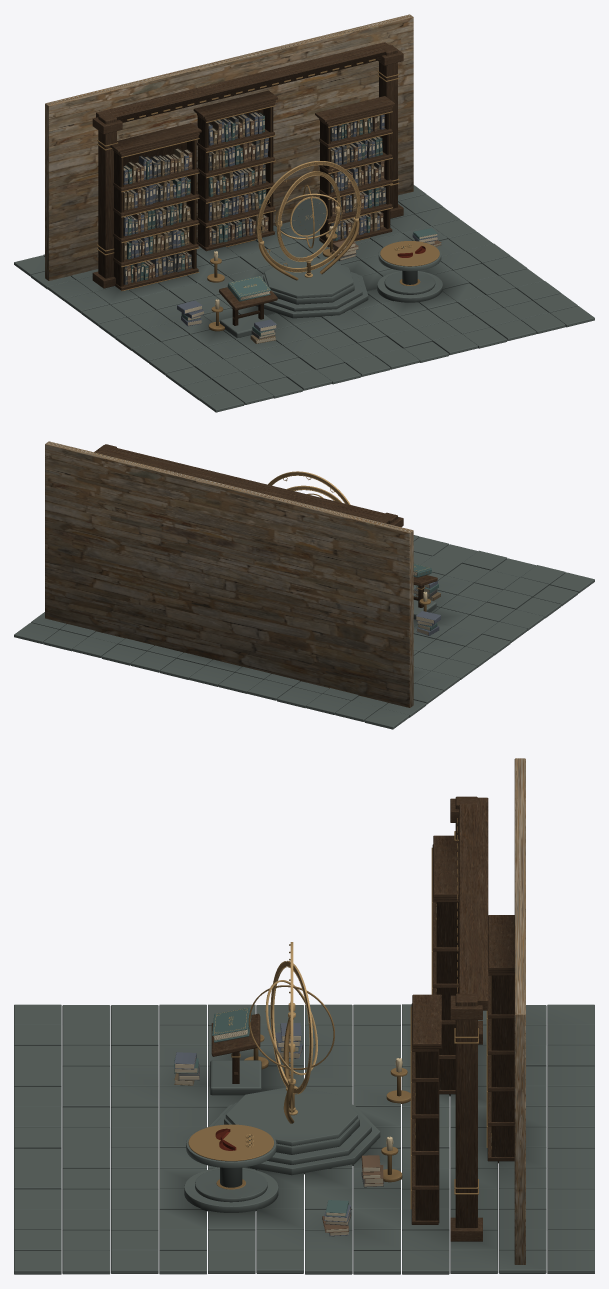
The model's file is refined-temple-ao.glb.
3 views of the same model, one above another, from view 1: azimuth 30°, elevation 25°; view 2: azimuth 150°, elevation 25°; view 3: azimuth 270°, elevation 25° (orthographic). The views are drawn at different scales.
Parts seen in each view (by area): view 1: root_room__06 basalt, root_room__05 aged limestone, root_room__04 antique walnut, instrument stand__06 basalt, root_archive__04 antique walnut, root_room__08 book cloth 2, root_room__07 parchment, root_room__01 aged bronze, root_room__08 book cloth 3, root_room__08 book cloth 1, root_room__08 book cloth 0, root_room__08 book cloth 4 (+20 smaller); view 2: root_room__05 aged limestone, root_room__06 basalt, root_room__04 antique walnut; view 3: root_room__06 basalt, root_room__04 antique walnut, instrument stand__06 basalt, root_archive__04 antique walnut, root_room__05 aged limestone, root_divination__06 basalt, root_room__01 aged bronze, root_divination__01 aged bronze, root_relationships__06 basalt, root_room__07 parchment, root_relationships__04 antique walnut, ring_middle__02 polished worn edges (+3 smaller).
Part boxes in pixels (x1,y1,x2,y2): root_room__06 basalt: (14,185,594,412); root_room__05 aged limestone: (45,14,413,280); root_room__04 antique walnut: (92,42,403,290); instrument stand__06 basalt: (255,258,368,318); root_archive__04 antique walnut: (315,96,394,247); root_room__08 book cloth 2: (123,111,437,331); root_room__07 parchment: (123,112,440,343); root_room__01 aged bronze: (97,59,399,331); root_room__08 book cloth 3: (123,115,275,343); root_room__08 book cloth 1: (127,116,441,283); root_room__08 book cloth 0: (123,112,437,336); root_room__08 book cloth 4: (123,116,434,339); root_room__05 aged limestone: (45,441,413,707); root_room__06 basalt: (14,535,594,729); root_room__04 antique walnut: (94,444,403,527); root_room__06 basalt: (14,1004,594,1274); root_room__04 antique walnut: (432,796,514,1241); instrument stand__06 basalt: (208,1087,380,1175); root_archive__04 antique walnut: (411,994,441,1224); root_room__05 aged limestone: (514,758,525,1264); root_divination__06 basalt: (184,1124,278,1212); root_room__01 aged bronze: (244,818,491,1194); root_divination__01 aged bronze: (188,1124,273,1189); root_relationships__06 basalt: (210,1060,261,1095); root_room__07 parchment: (174,907,491,1235); root_relationships__04 antique walnut: (211,1013,260,1083); ring_middle__02 polished worn edges: (270,960,313,1094).
Bounding box in the file's own units: 13.5 × 6.05 × 12.46.
Materials: 14 (2 with a texture image).
